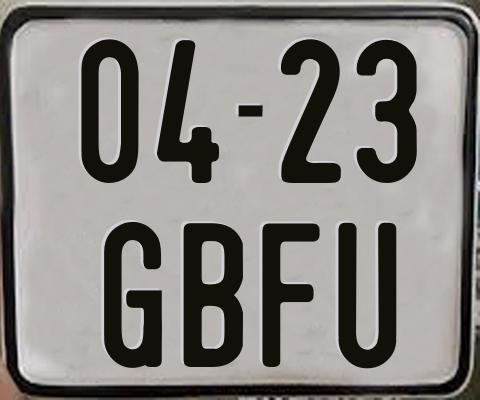0: (80, 39, 141, 186)
2: (279, 38, 341, 183)
3: (357, 40, 419, 187)
4: (154, 39, 218, 183)
B: (184, 220, 249, 368)
F: (262, 220, 325, 364)
G: (102, 222, 162, 373)
U: (336, 223, 397, 368)
